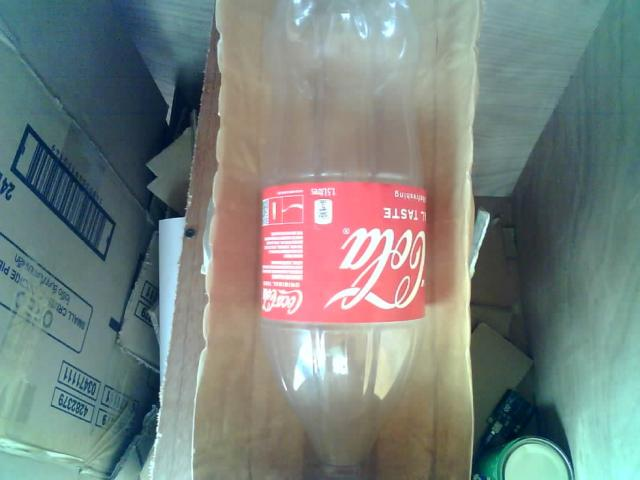large_bottle: (244, 0, 438, 480)
